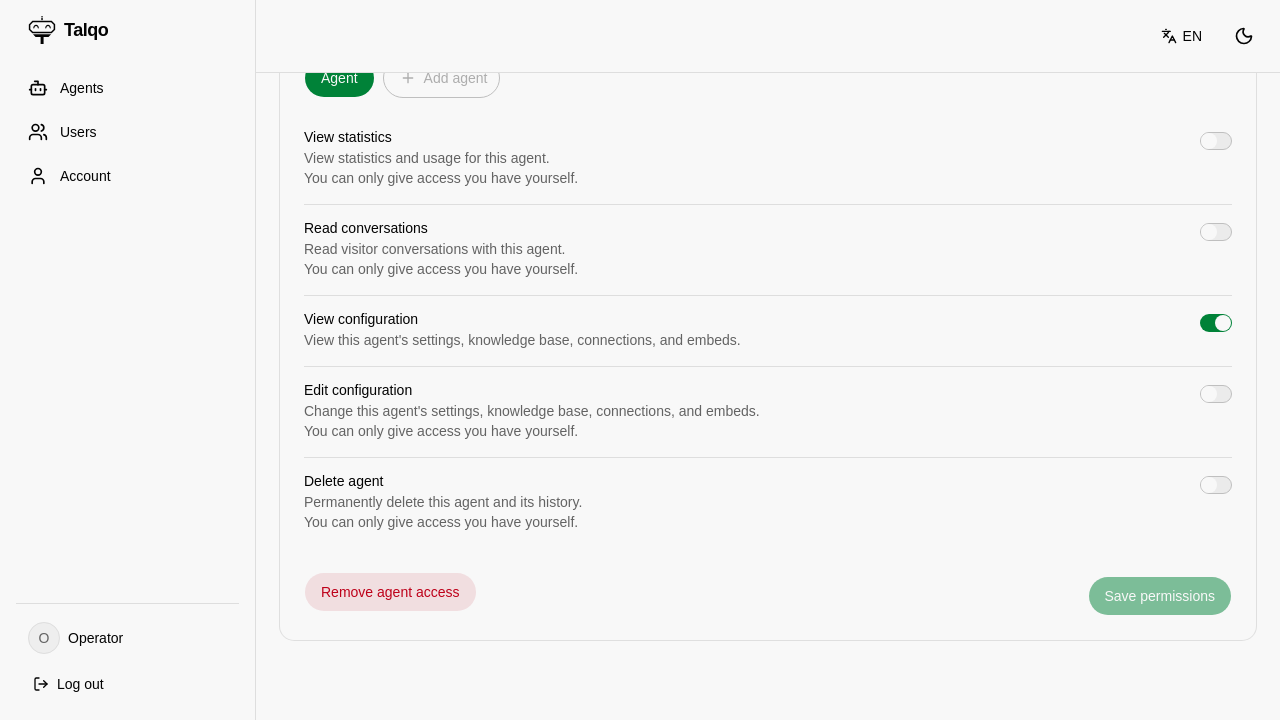
Test: clears protected caches when access is revoked before the role refetch completes
(page scrolled)
Click the button "Remove agent access" at (390, 592), box [304,572,476,612]
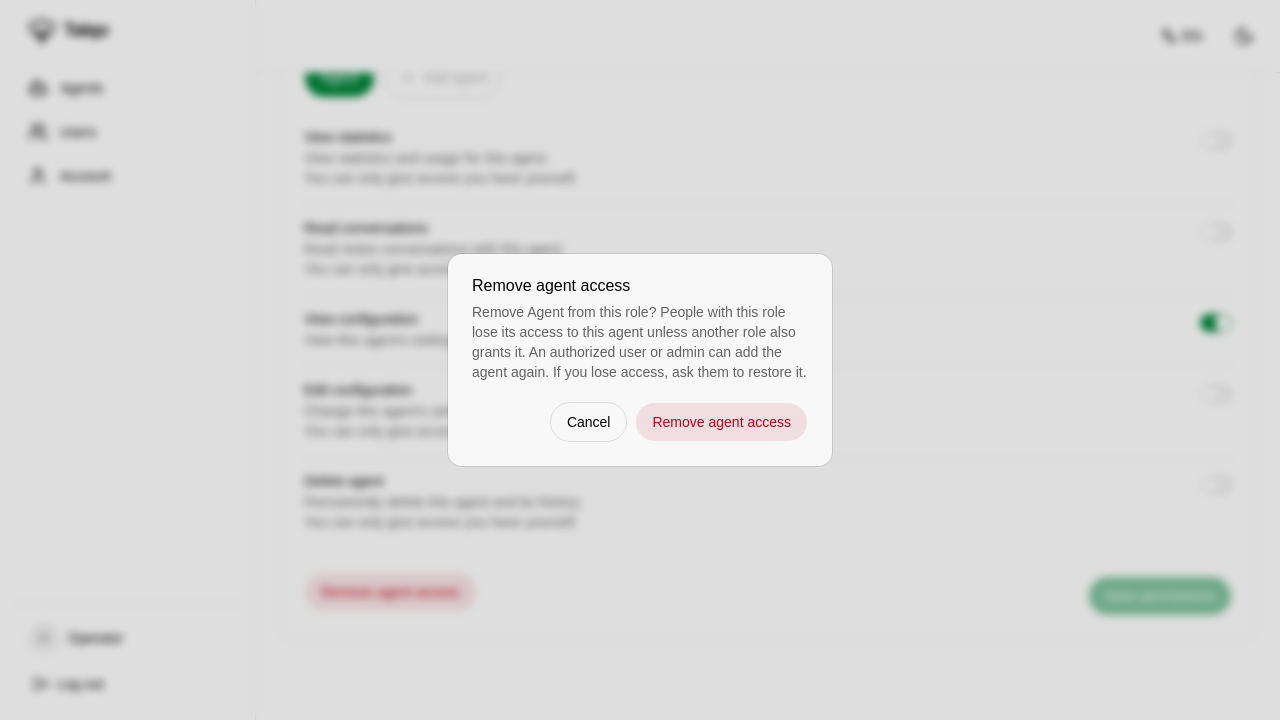
Click the button "Remove agent access" at (722, 422), box [636,402,808,442]
(page scrolled)
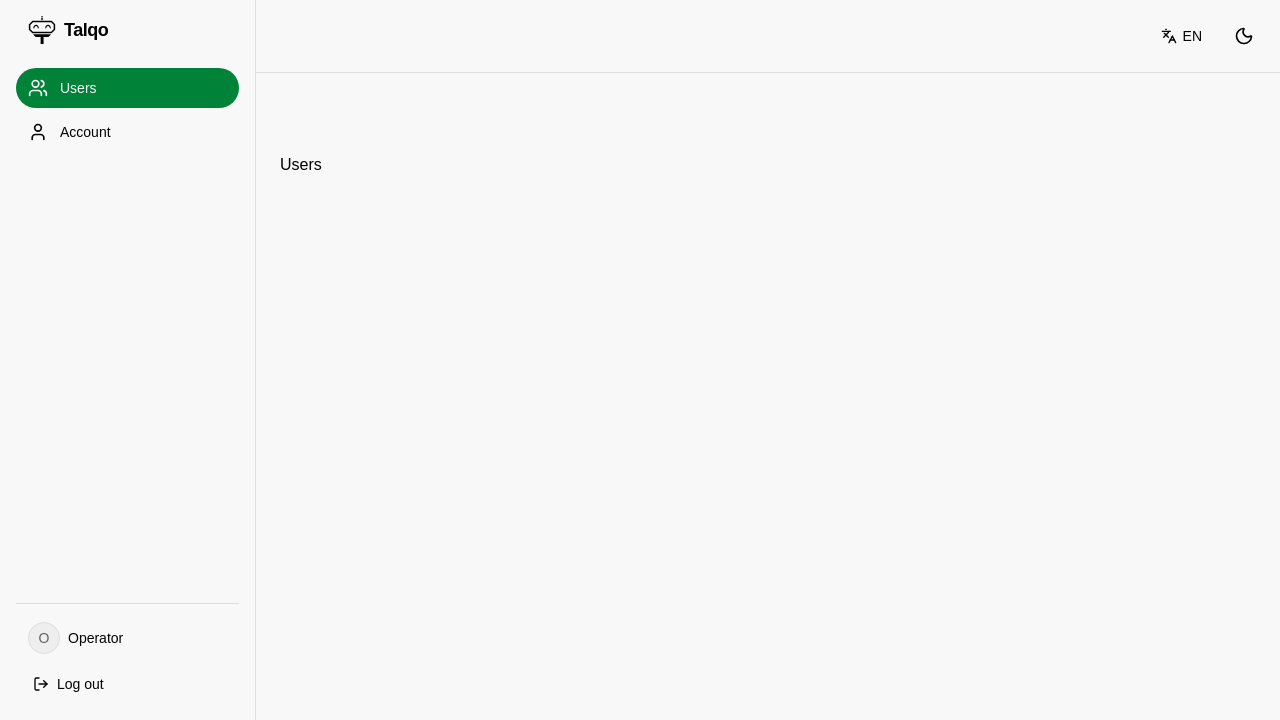
Check: the heading "Users" is shown, box [280,156,322,173]
